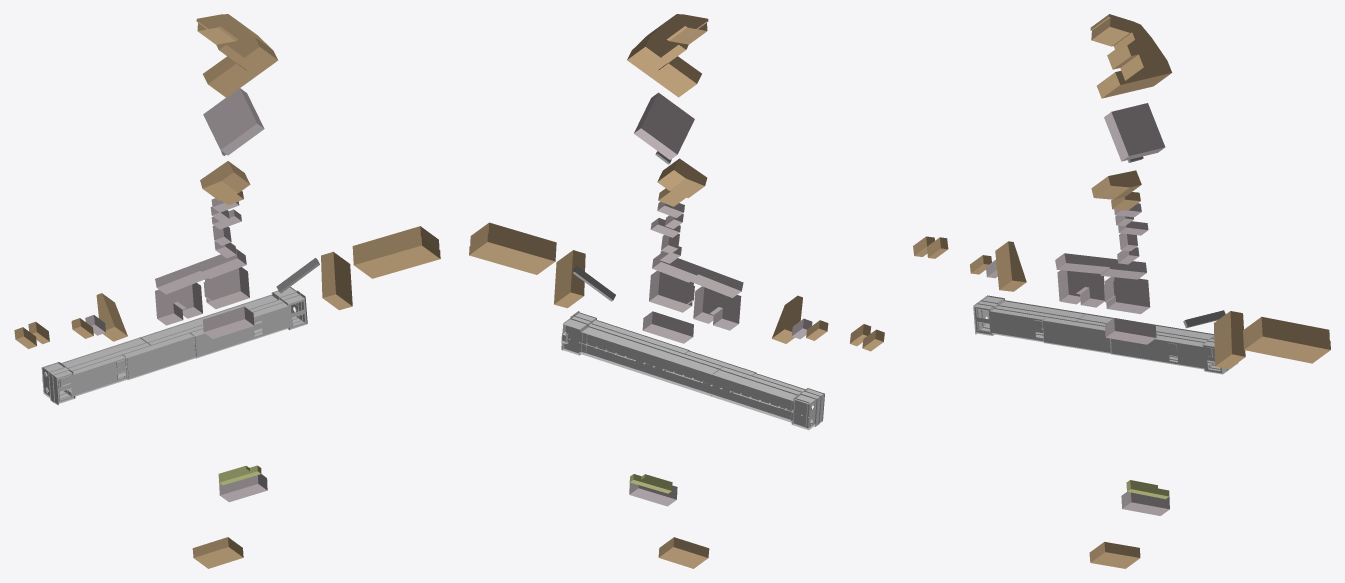
3 renders of one model, left to right at view 1: azimuth 30°, elevation 25°; view 2: azimuth 150°, elevation 25°; view 3: azimuth 330°, elevation 25°, orthographic.
Visible parts, largest first — view 1: 0_0_3_2_0_1; view 2: 0_0_3_2_0_1; view 3: 0_0_3_2_0_1.
Part boxes in pixels (box(x1,y1,x2,y2)): 0_0_3_2_0_1: box(14, 14, 440, 568); 0_0_3_2_0_1: box(469, 14, 884, 568); 0_0_3_2_0_1: box(913, 14, 1330, 568).
Size of the model in its own units: 378 by 478 by 62.2.
